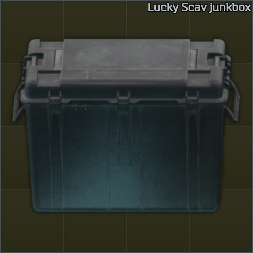Lucky Scav Junk box: (0, 0, 253, 253)
